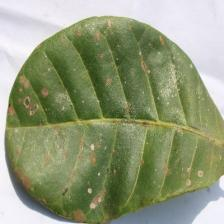red rust: (4, 15, 224, 224)
